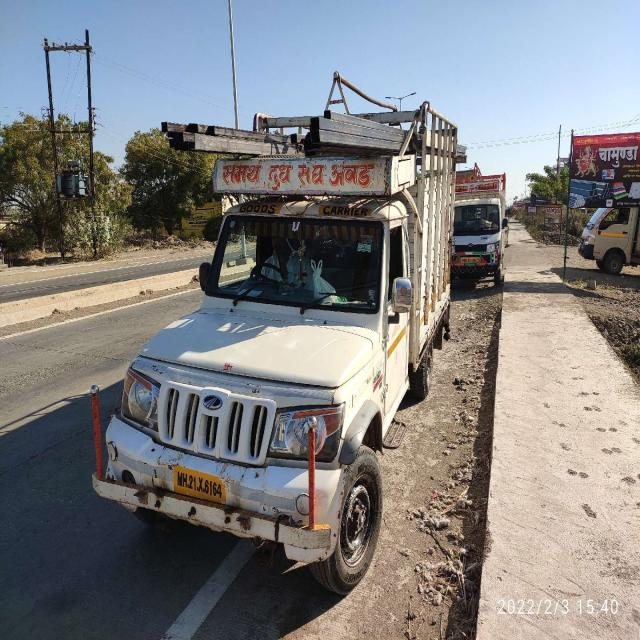light_vehicle: (96, 161, 452, 540)
